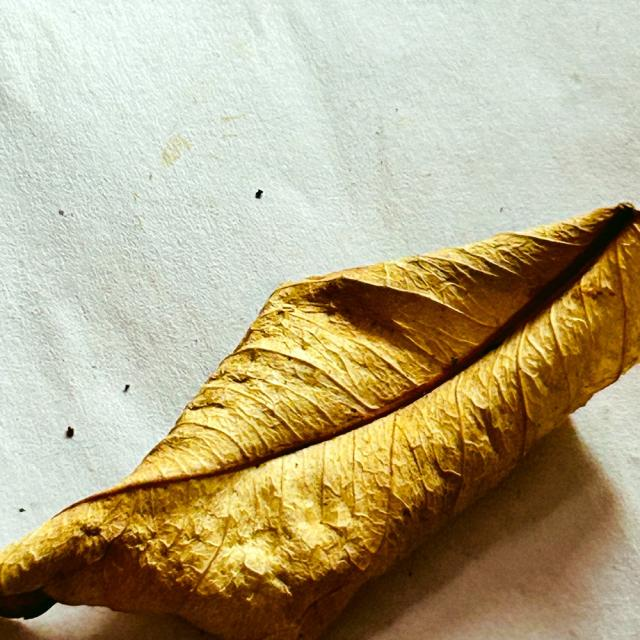DryLeaf_Lemon: (0, 203, 639, 639)
